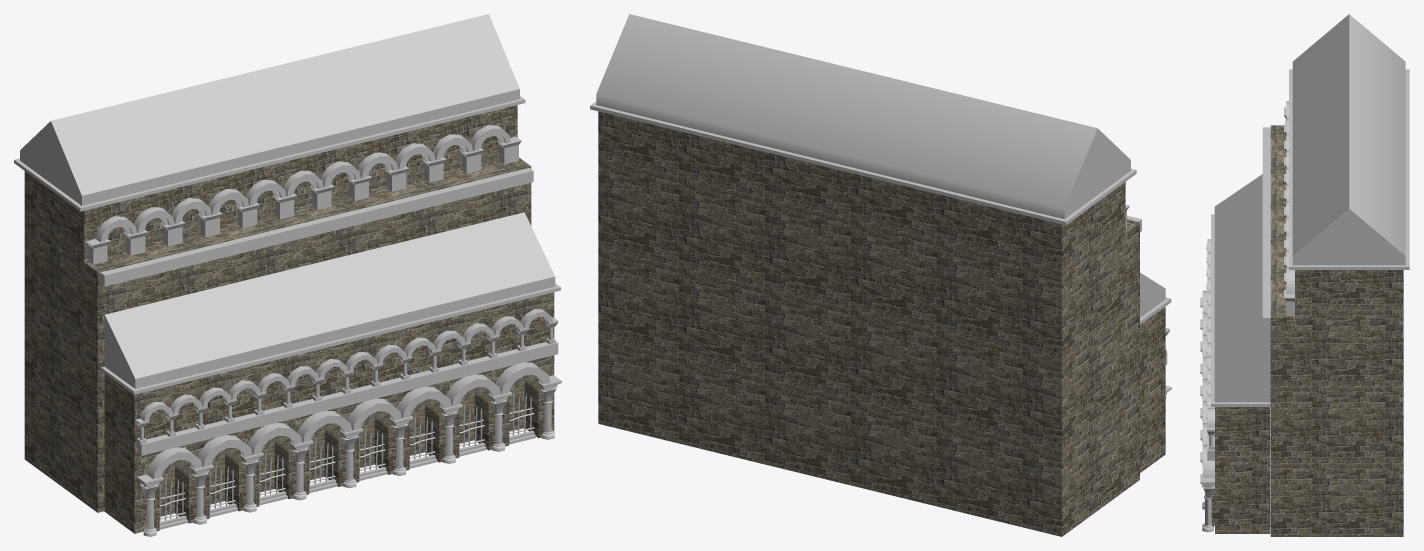
Rendered from SM_EN_2011_jianzhu03.FBX.
3 renders of one model, left to right at view 1: azimuth 30°, elevation 25°; view 2: azimuth 150°, elevation 25°; view 3: azimuth 270°, elevation 25°, orthographic. The views are drawn at different scales.
Parts seen in each view (by area): view 1: SM_EN_2011_jianzhu0302, SM_EN_2011_jianzhu0301; view 2: SM_EN_2011_jianzhu0301, SM_EN_2011_jianzhu0302; view 3: SM_EN_2011_jianzhu0302, SM_EN_2011_jianzhu0301.
Boxes of the visible parts, box(x1,y1,x2,y2) form: SM_EN_2011_jianzhu0302: box(14, 14, 561, 536); SM_EN_2011_jianzhu0301: box(24, 105, 554, 533); SM_EN_2011_jianzhu0301: box(598, 111, 1165, 536); SM_EN_2011_jianzhu0302: box(590, 14, 1171, 397); SM_EN_2011_jianzhu0302: box(1200, 14, 1409, 532); SM_EN_2011_jianzhu0301: box(1211, 125, 1403, 536).
Size of the model in its own units: 1159 by 900 by 519.
